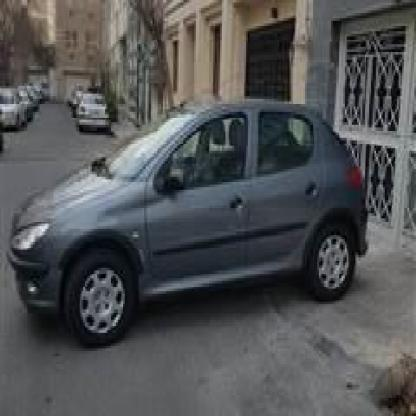Car: (2, 99, 374, 338), (75, 91, 116, 133), (0, 88, 31, 136), (24, 83, 49, 117)
